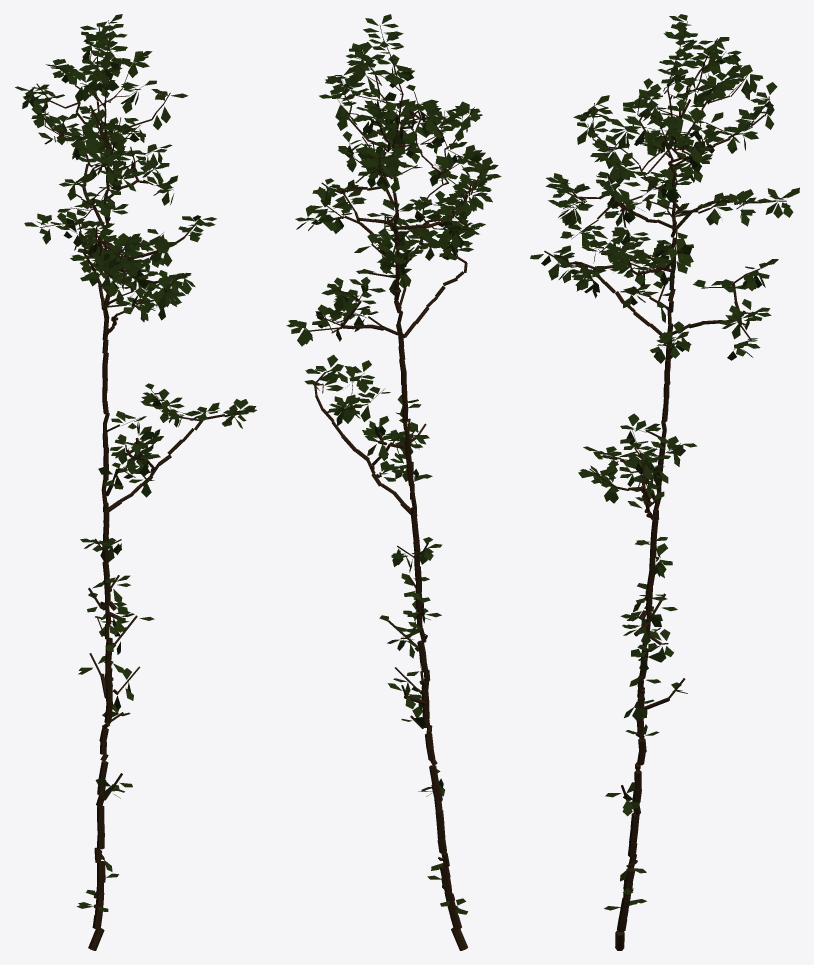
Rendered from 2022_tree_277.obj.
The picture shows the model from 3 angles, left to right: view 1: azimuth 30°, elevation 25°; view 2: azimuth 150°, elevation 25°; view 3: azimuth 270°, elevation 25°; orthographic projection. The views are drawn at different scales.
Parts seen in each view (by area): view 1: Leaves, TrunkAndBranches; view 2: Leaves, TrunkAndBranches; view 3: Leaves, TrunkAndBranches.
Boxes of the visible parts, bbox=[...] form: Leaves: bbox=[15, 14, 256, 911]; TrunkAndBranches: bbox=[31, 20, 241, 950]; Leaves: bbox=[286, 14, 501, 914]; TrunkAndBranches: bbox=[306, 24, 484, 950]; Leaves: bbox=[530, 14, 799, 910]; TrunkAndBranches: bbox=[544, 21, 786, 950].
Size of the model in its own units: 3.81 by 16.49 by 4.21.
